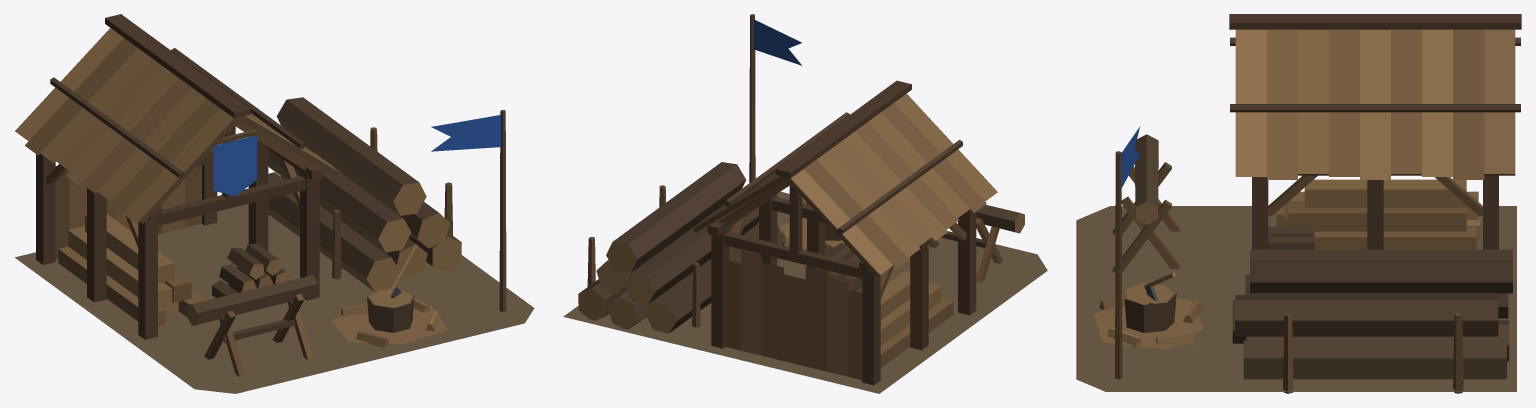
The model's file is lumber-camp.glb.
3 views of the same model, side by side, from view 1: azimuth 30°, elevation 25°; view 2: azimuth 150°, elevation 25°; view 3: azimuth 270°, elevation 25° (orthographic). The views are drawn at different scales.
Visible parts, largest first — view 1: lumber-camp; view 2: lumber-camp; view 3: lumber-camp.
Part boxes in pixels (<box>): lumber-camp: <box>14,14,534,393</box>; lumber-camp: <box>563,14,1047,393</box>; lumber-camp: <box>1076,14,1521,393</box>.
Bounding box in the file's own units: 5.51 × 3.37 × 5.5.
